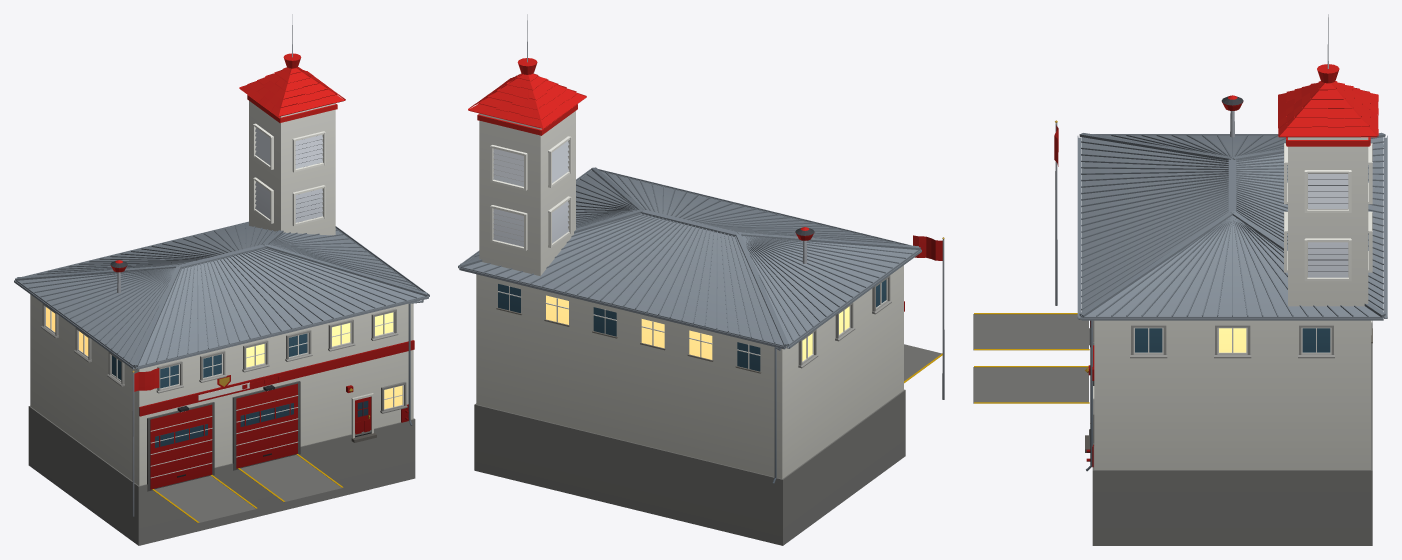
File: FireStation.fbx
3 renders of one model, left to right at view 1: azimuth 30°, elevation 25°; view 2: azimuth 150°, elevation 25°; view 3: azimuth 270°, elevation 25°, orthographic. The views are drawn at different scales.
Parts seen in each view (by area): view 1: FireStation_LOD0; view 2: FireStation_LOD0; view 3: FireStation_LOD0.
Part boxes in pixels (x1,y1,x2,y2): FireStation_LOD0: (14, 14, 429, 545); FireStation_LOD0: (458, 14, 944, 545); FireStation_LOD0: (973, 14, 1387, 545).
Size of what is drawn, in the model's own units: 17.93 by 22.5 by 16.46.
1 material, 1 textured.
